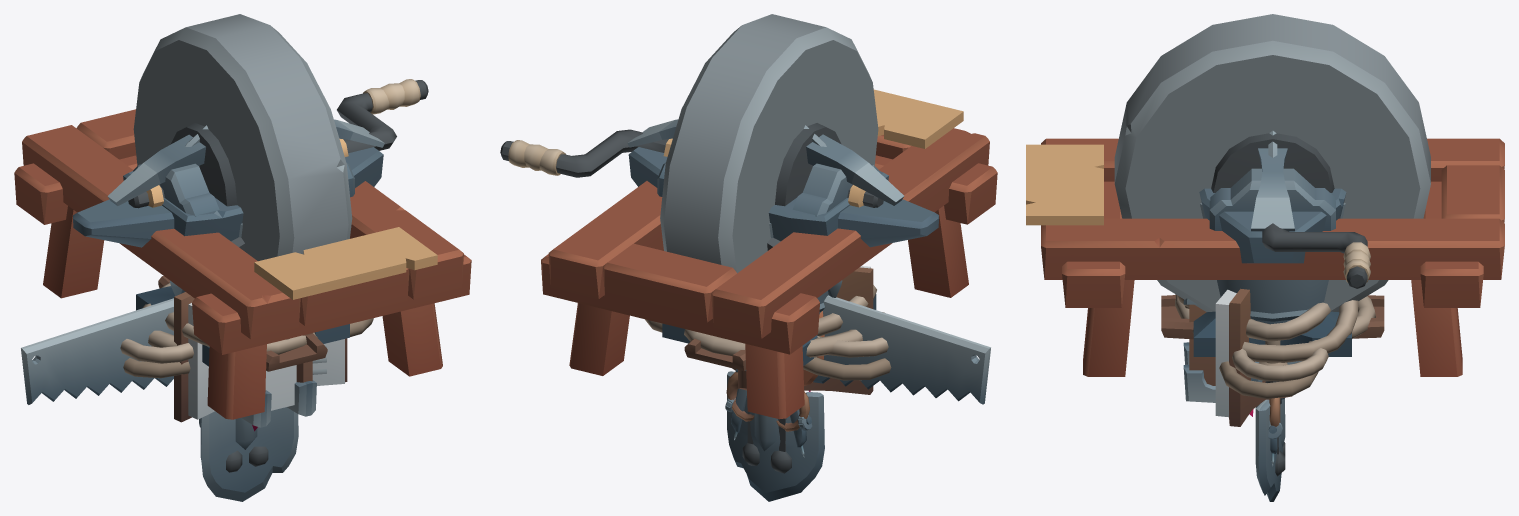
The model's file is tools.glb.
The picture shows the model from 3 angles, left to right: view 1: azimuth 30°, elevation 25°; view 2: azimuth 150°, elevation 25°; view 3: azimuth 270°, elevation 25°; orthographic projection.
Parts seen in each view (by area): view 1: grindstone, saw, anvil, shovel, journal_open, pickaxe, journal_closed, rope_bundle_A, rope_bundle_B, handplane, tongs; view 2: grindstone, saw, anvil, shovel, pickaxe, rope_bundle_A, rope_bundle_B, journal_open, tongs, drafting_compass, handplane, scissors; view 3: grindstone, anvil, rope_bundle_B, journal_open, bucket_metal, rope_bundle_A, pickaxe, shovel, journal_closed, handplane.
Boxes of the visible parts, bbox=[...] form: grindstone: bbox=[14, 14, 471, 419]; saw: bbox=[21, 298, 173, 404]; anvil: bbox=[73, 147, 383, 366]; shovel: bbox=[200, 407, 298, 501]; journal_open: bbox=[174, 292, 347, 422]; pickaxe: bbox=[107, 119, 384, 205]; journal_closed: bbox=[241, 333, 316, 431]; rope_bundle_A: bbox=[120, 318, 373, 378]; rope_bundle_B: bbox=[143, 282, 317, 354]; handplane: bbox=[158, 276, 327, 371]; tongs: bbox=[226, 446, 268, 472]; grindstone: bbox=[500, 14, 997, 419]; saw: bbox=[803, 295, 990, 404]; anvil: bbox=[628, 147, 938, 365]; shovel: bbox=[727, 371, 824, 501]; pickaxe: bbox=[627, 119, 904, 205]; rope_bundle_A: bbox=[645, 312, 891, 380]; rope_bundle_B: bbox=[684, 285, 876, 357]; journal_open: bbox=[732, 266, 873, 394]; tongs: bbox=[742, 411, 791, 473]; drafting_compass: bbox=[725, 369, 812, 457]; handplane: bbox=[684, 338, 746, 370]; scissors: bbox=[726, 372, 809, 431]; grindstone: bbox=[1026, 14, 1504, 376]; anvil: bbox=[1193, 188, 1351, 356]; rope_bundle_B: bbox=[1175, 294, 1375, 362]; journal_open: bbox=[1215, 288, 1265, 426]; bucket_metal: bbox=[1200, 130, 1345, 324]; rope_bundle_A: bbox=[1219, 340, 1328, 398]; pickaxe: bbox=[1251, 148, 1294, 231]; shovel: bbox=[1255, 398, 1285, 501]; journal_closed: bbox=[1183, 298, 1301, 402]; handplane: bbox=[1161, 295, 1384, 339].
Size of the model in its own units: 2.46 by 2.48 by 2.27.
1 material, 1 textured.
